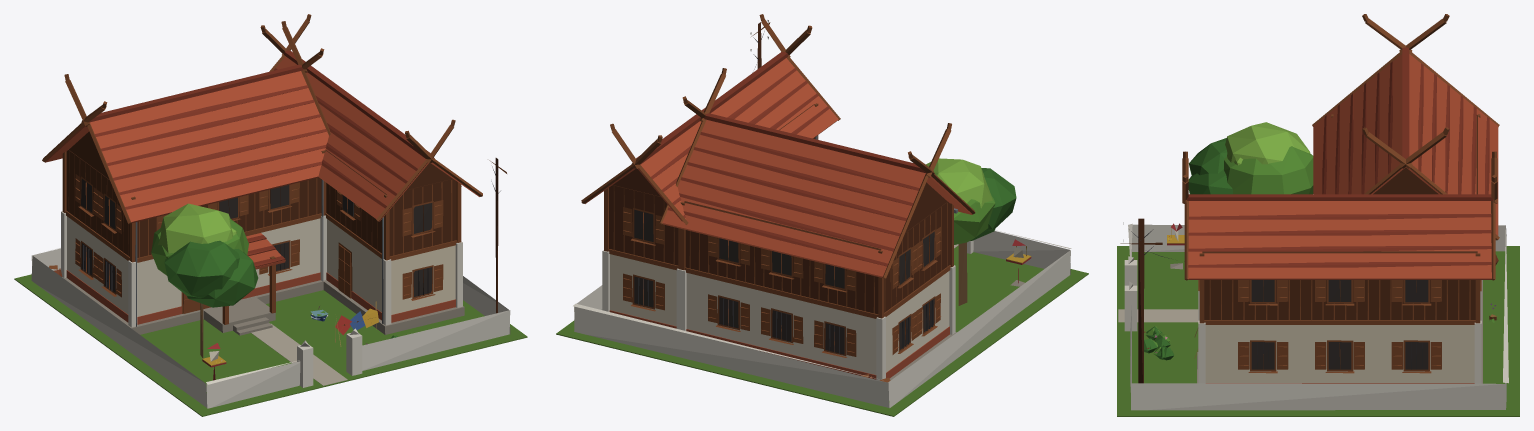
File: home_4.glb
The picture shows the model from 3 angles, left to right: view 1: azimuth 30°, elevation 25°; view 2: azimuth 150°, elevation 25°; view 3: azimuth 270°, elevation 25°; orthographic projection. The views are drawn at different scales.
Parts seen in each view (by area): view 1: body, windows; view 2: body, windows; view 3: body, windows.
Part boxes in pixels (x1,y1,x2,y2): body: (14, 14, 527, 416); windows: (81, 179, 432, 296); body: (556, 14, 1088, 416); windows: (634, 209, 934, 354); body: (1117, 14, 1519, 416); windows: (1251, 280, 1428, 369).
Bounding box in the file's own units: 15.9 × 10.67 × 15.9.
